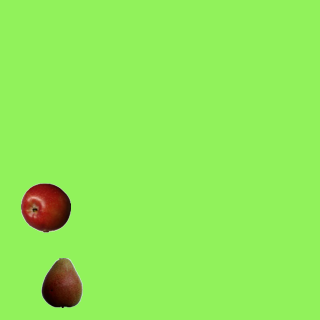Apple Braeburn: (20, 182, 70, 232)
Pear Forelle: (36, 257, 86, 307)
